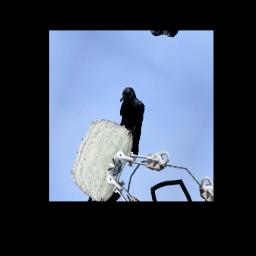Crow: (102, 84, 160, 159)
